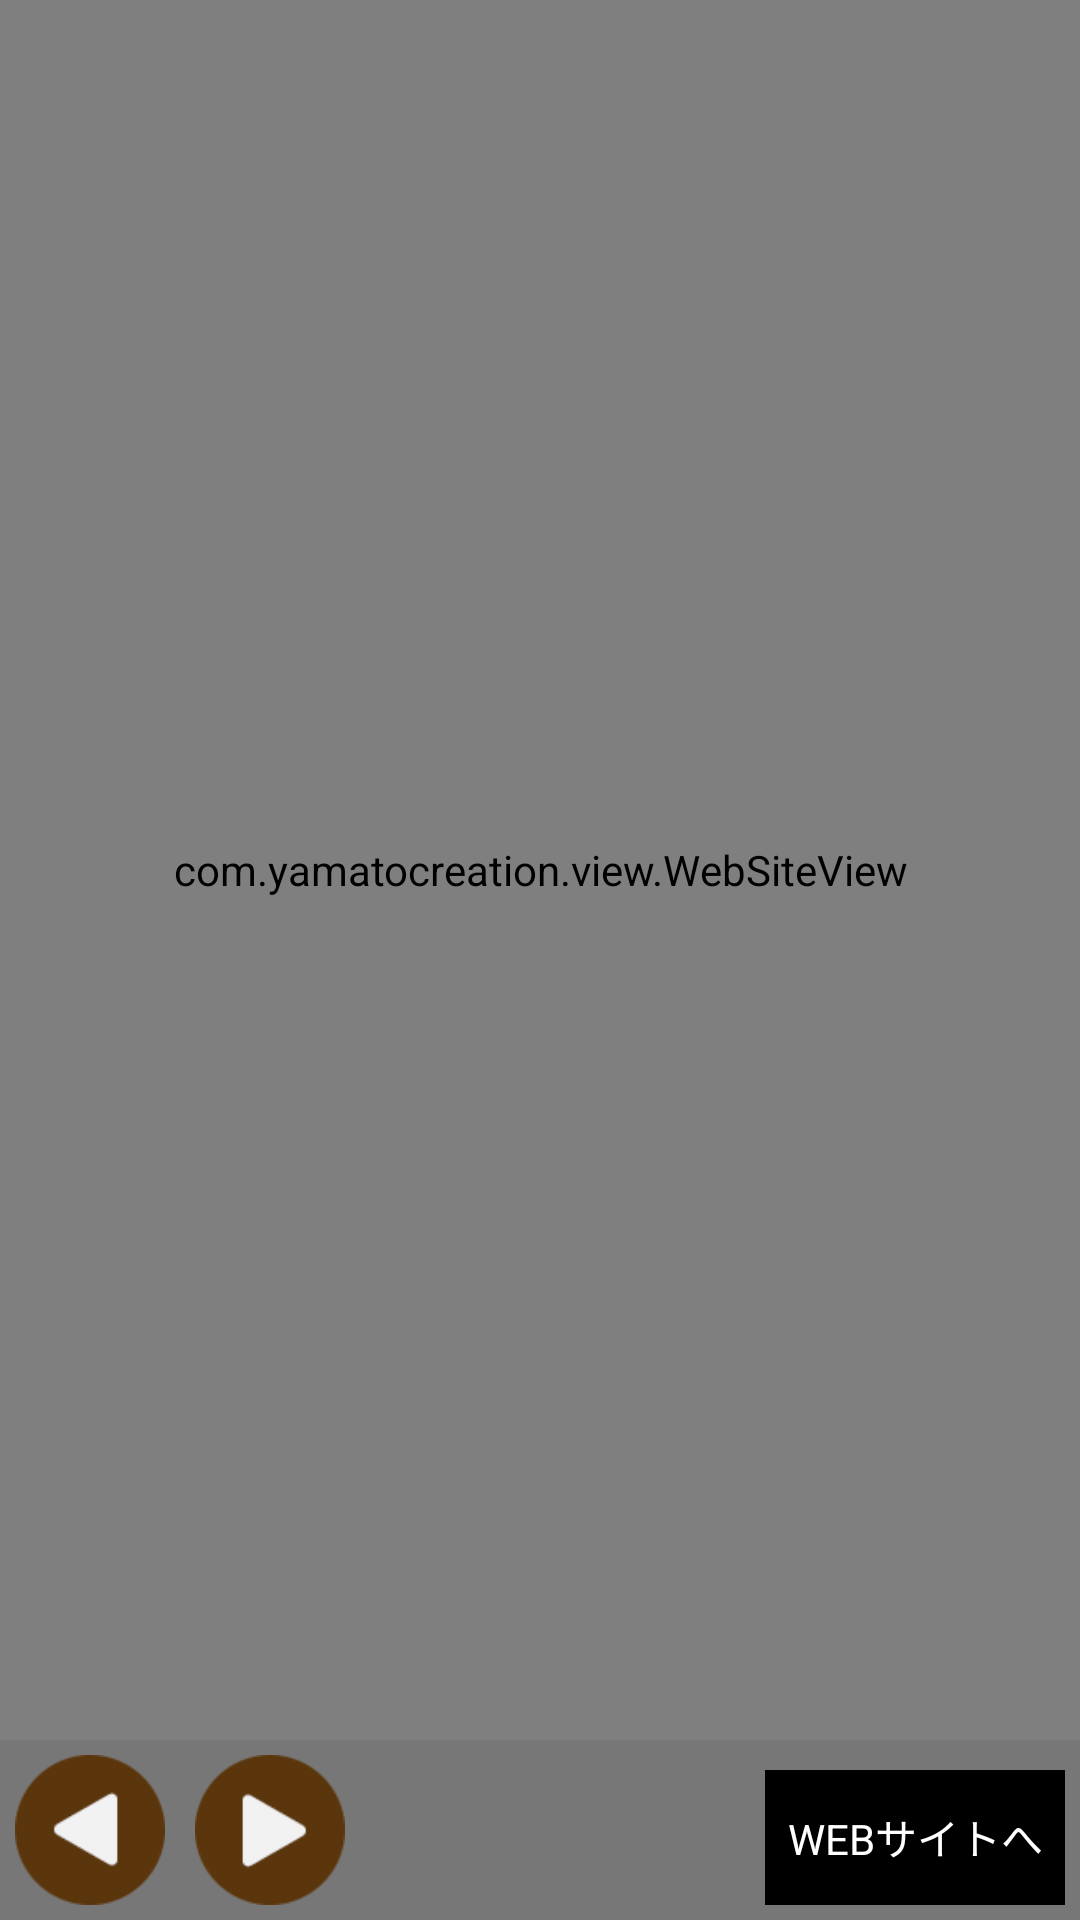

Icon click points for this 1080 x 1920 phone screenshot, format point (x, y):
web back: point (90, 1830)
web next: point (270, 1830)
